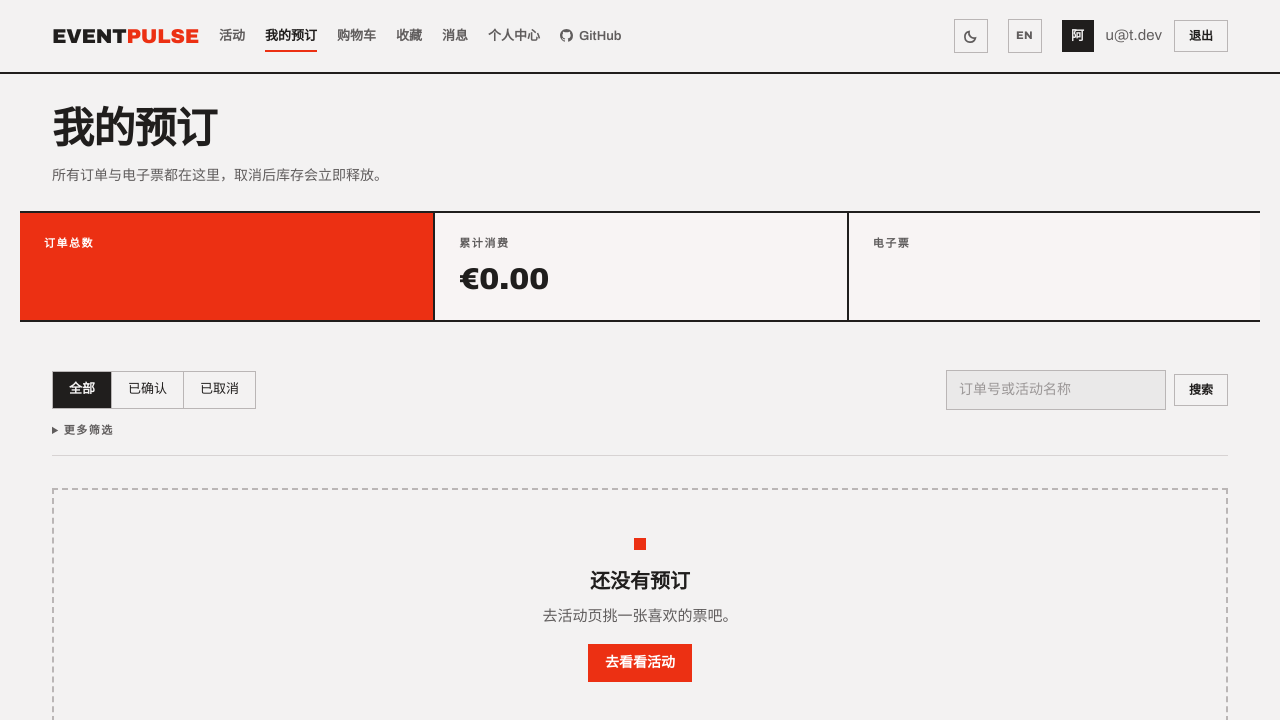
Test: TopBar › signs the user out and returns to discovery
The width and height of the screenshot is (1280, 720).
Expected: the link "阿" is shown, [1062,20,1094,52]
Step 1. Click the button "退出" → {"x": 1201, "y": 36}, box [1174,20,1228,52]
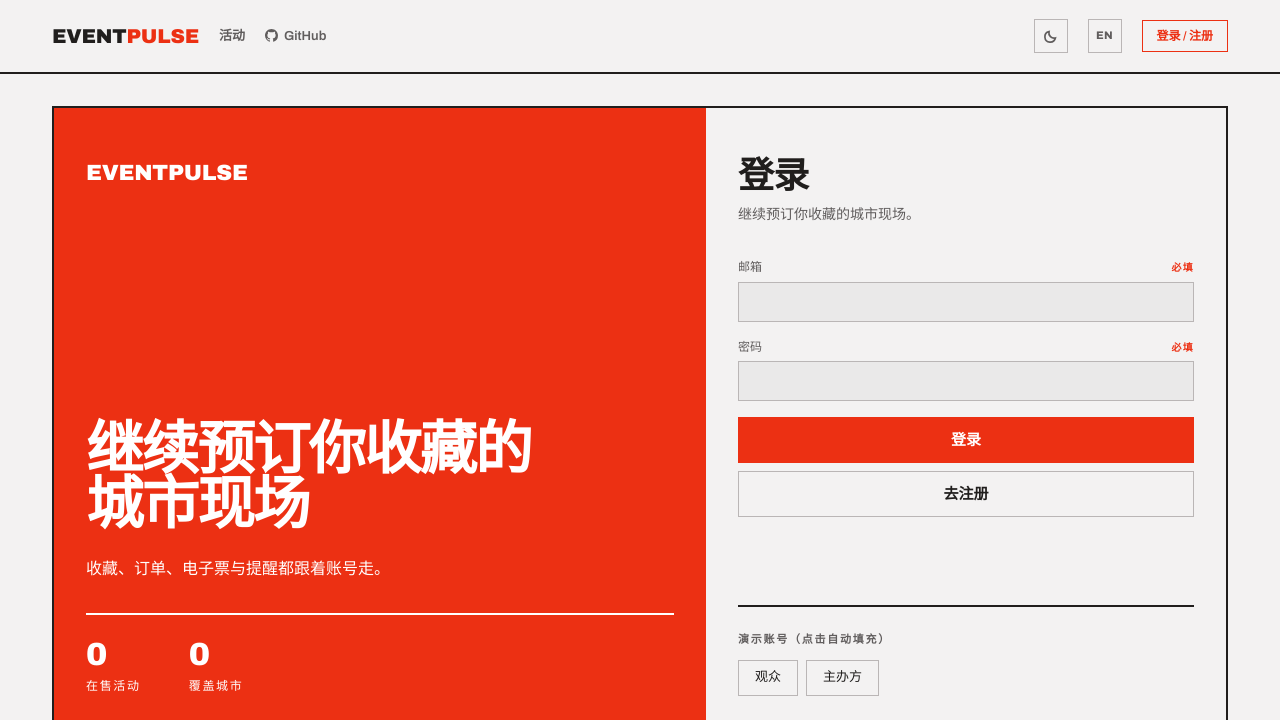
Expected: the link "登录 / 注册" is shown, [1142,20,1228,52]
